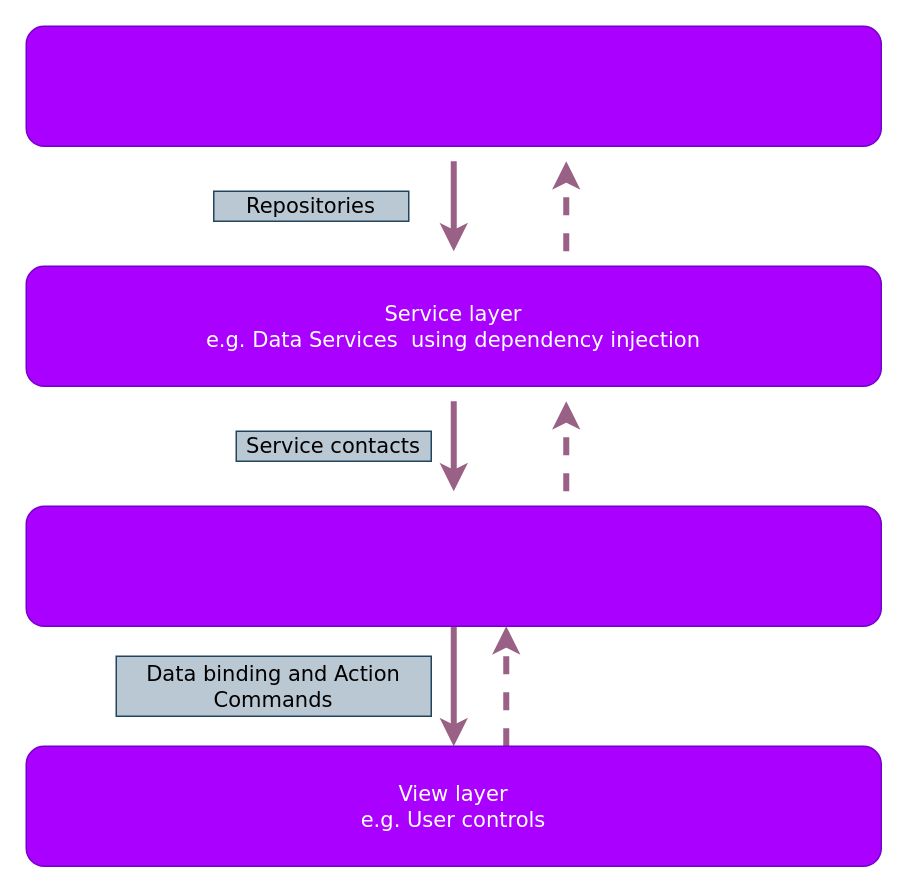
This 908x893 diagram has some shape labels left out. Each missing label, with the box of its shape:
DB Layer e.g. Data Access Objects + Entity Framework: (25, 25, 881, 146)
ViewModel layer e.g. Manage view layer state: (25, 505, 881, 626)
